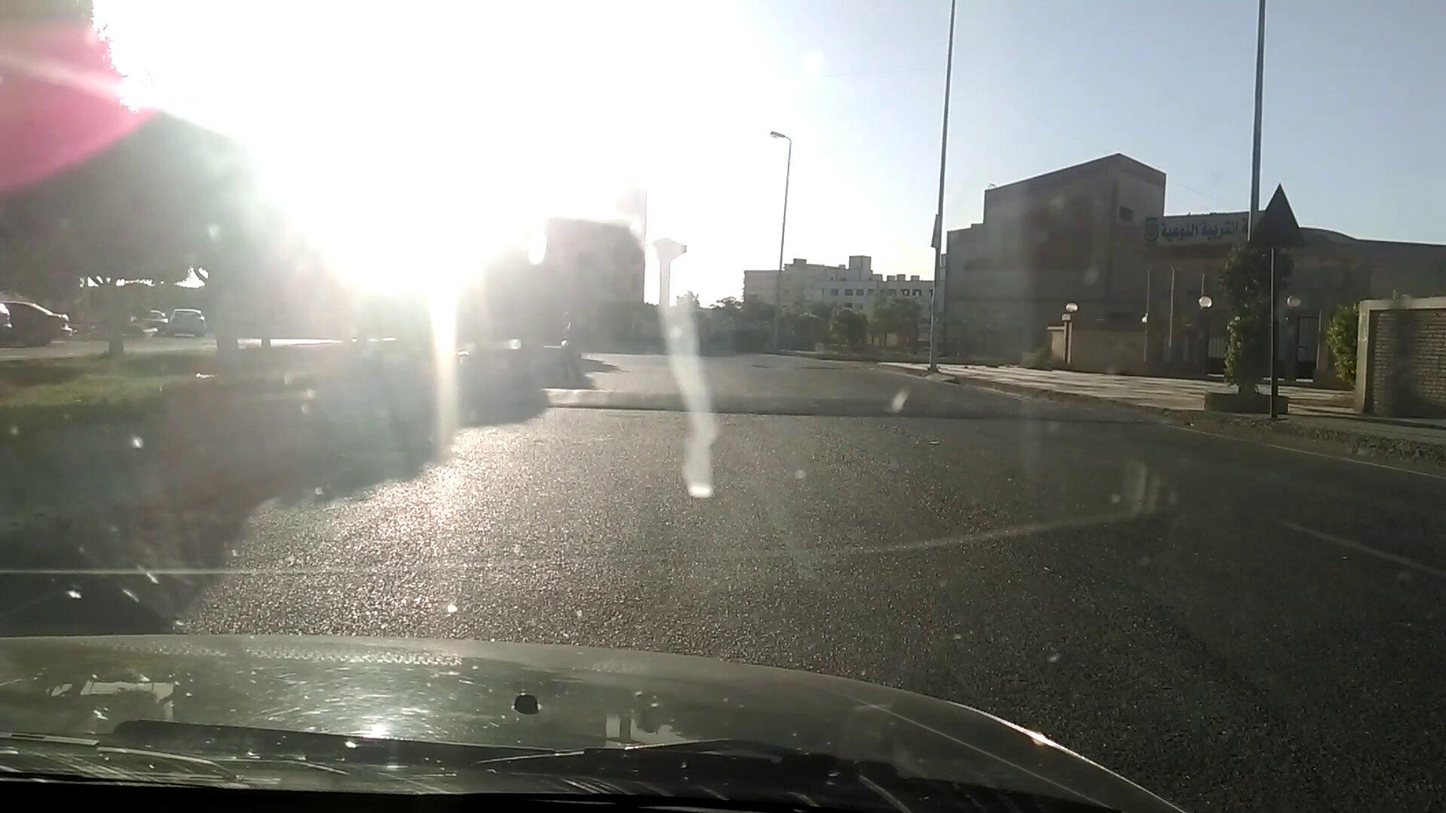Bump: (527, 378, 1188, 435)
